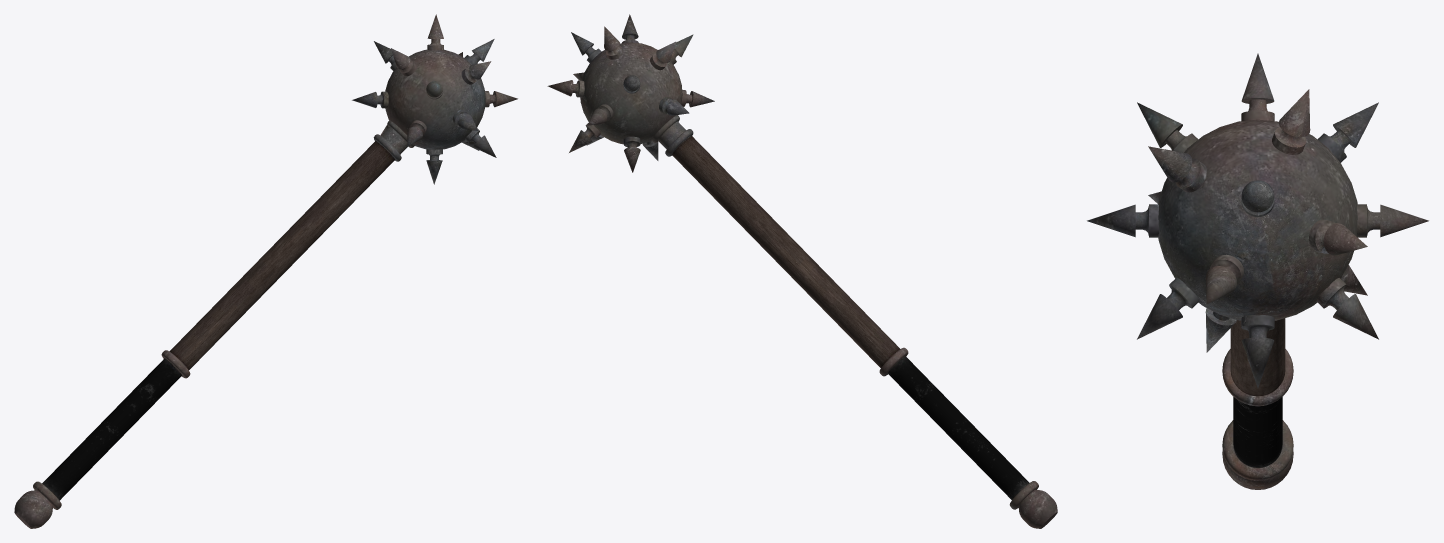
The model's file is mace.glb.
3 views of the same model, side by side, from view 1: azimuth 30°, elevation 25°; view 2: azimuth 150°, elevation 25°; view 3: azimuth 270°, elevation 25° (orthographic). The views are drawn at different scales.
Visible parts, largest first — view 1: Handle; view 2: Handle; view 3: Handle.
Part boxes in pixels (box(x1,y1,x2,y2)): Handle: box(14, 14, 517, 528); Handle: box(547, 14, 1057, 528); Handle: box(1087, 53, 1428, 489).
Bounding box in the file's own units: 47.35 × 37.21 × 14.39.
Materials: 1 (1 with a texture image).
